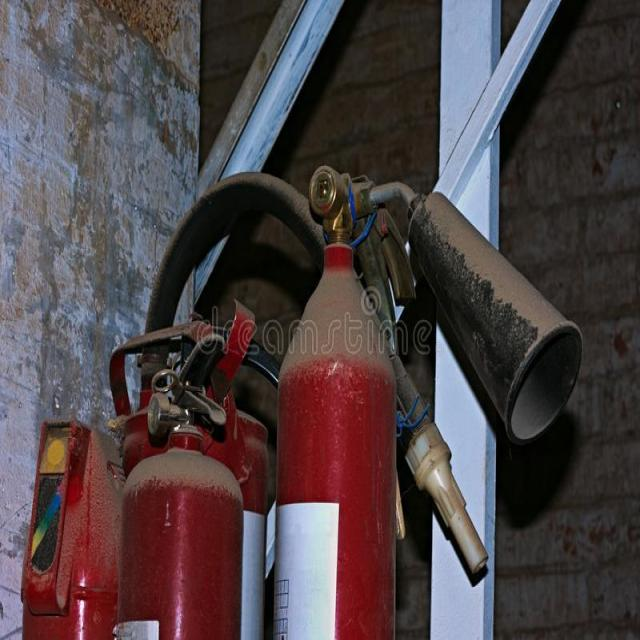fire_extinguisher: (267, 160, 587, 639), (104, 300, 266, 638)
